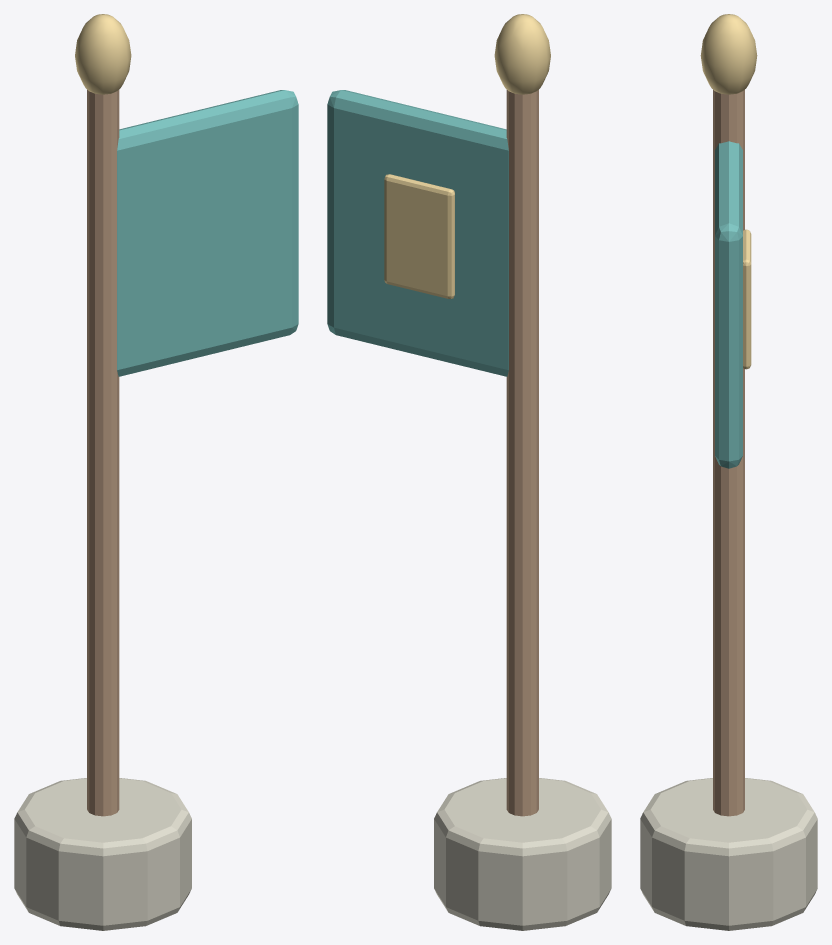
Rendered from banner.glb.
3 views of the same model, side by side, from view 1: azimuth 30°, elevation 25°; view 2: azimuth 150°, elevation 25°; view 3: azimuth 270°, elevation 25° (orthographic).
Parts seen in each view (by area): view 1: Sculpt__Hearth teal, Sculpt__Honey oak, Sculpt__Limestone, Sculpt__Hammered brass; view 2: Sculpt__Hearth teal, Sculpt__Honey oak, Sculpt__Limestone, Sculpt__Hammered brass; view 3: Sculpt__Limestone, Sculpt__Honey oak, Sculpt__Hearth teal, Sculpt__Hammered brass.
Boxes of the visible parts, box(x1,y1,x2,y2) form: Sculpt__Hearth teal: box(117, 90, 298, 376); Sculpt__Honey oak: box(87, 90, 119, 816); Sculpt__Limestone: box(14, 778, 191, 930); Sculpt__Hammered brass: box(75, 14, 131, 94); Sculpt__Hearth teal: box(327, 90, 508, 376); Sculpt__Honey oak: box(506, 90, 538, 816); Sculpt__Limestone: box(434, 778, 611, 930); Sculpt__Hammered brass: box(384, 14, 550, 298); Sculpt__Limestone: box(640, 778, 817, 930); Sculpt__Honey oak: box(713, 90, 744, 816); Sculpt__Hearth teal: box(715, 141, 742, 468); Sculpt__Hammered brass: box(700, 14, 757, 369).
Size of the model in its own units: 0.775 by 2.41 by 0.44.
